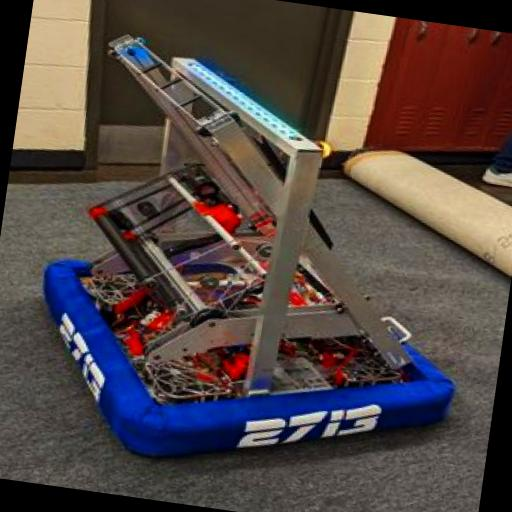robot: (7, 7, 512, 503)
